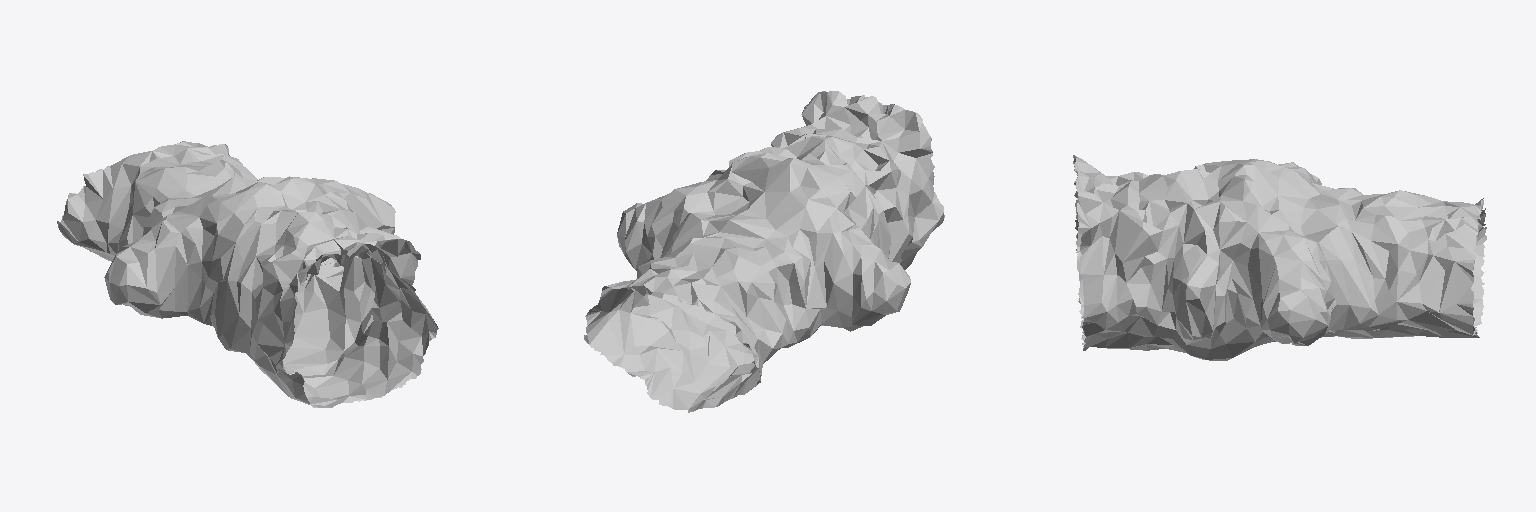
Rendered from cave_lessTris.obj.
The picture shows the model from 3 angles: view 1: azimuth 30°, elevation 25°; view 2: azimuth 150°, elevation 25°; view 3: azimuth 270°, elevation 25°; orthographic projection.
Parts seen in each view (by area): view 1: Cave___01:Mesh; view 2: Cave___01:Mesh; view 3: Cave___01:Mesh.
Boxes of the visible parts, x1,y1,x2,y2 form: Cave___01:Mesh: [57, 141, 438, 407]; Cave___01:Mesh: [584, 91, 944, 412]; Cave___01:Mesh: [1073, 155, 1486, 360].
Bounding box in the file's own units: 5.7 × 3.34 × 7.19.